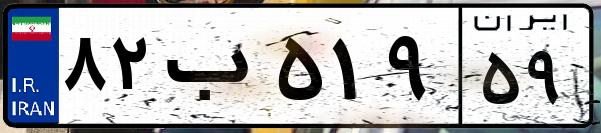1: (330, 28, 385, 110)
2: (110, 28, 158, 98)
5: (270, 28, 330, 110), (475, 38, 525, 113)
8: (57, 26, 110, 100)
9: (385, 28, 445, 110), (525, 38, 570, 115)
ب: (158, 20, 270, 120)
